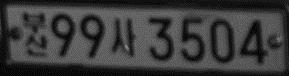0: (209, 18, 236, 64)
3: (147, 16, 173, 61)
4: (238, 19, 267, 64)
5: (179, 16, 205, 62)
9: (78, 13, 106, 57), (50, 12, 77, 57)
부산_V: (22, 10, 48, 57)
사: (110, 17, 137, 56)
